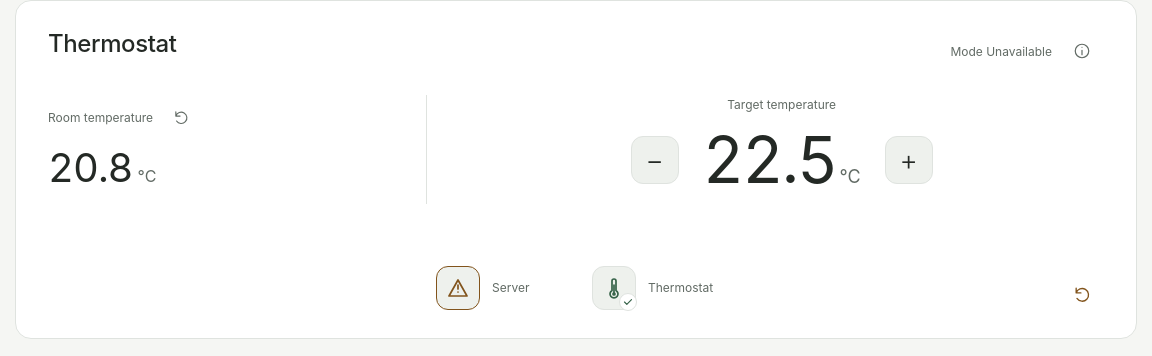
Test: shows verified device application independently of a lost server reply
Click the button named "Show details".
click(614, 288)  # box x1=592 y1=266 x2=636 y2=310
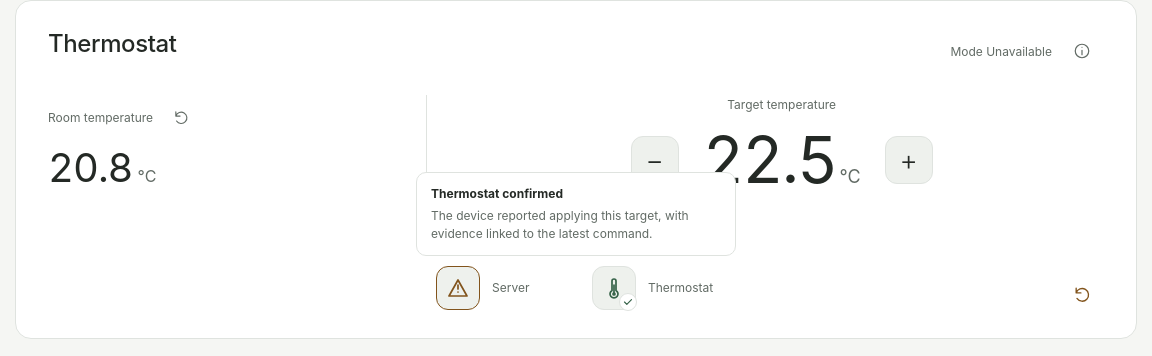
expect the tooltip shows "evidence linked to the latest command": met, box x1=431 y1=208 x2=689 y2=241
